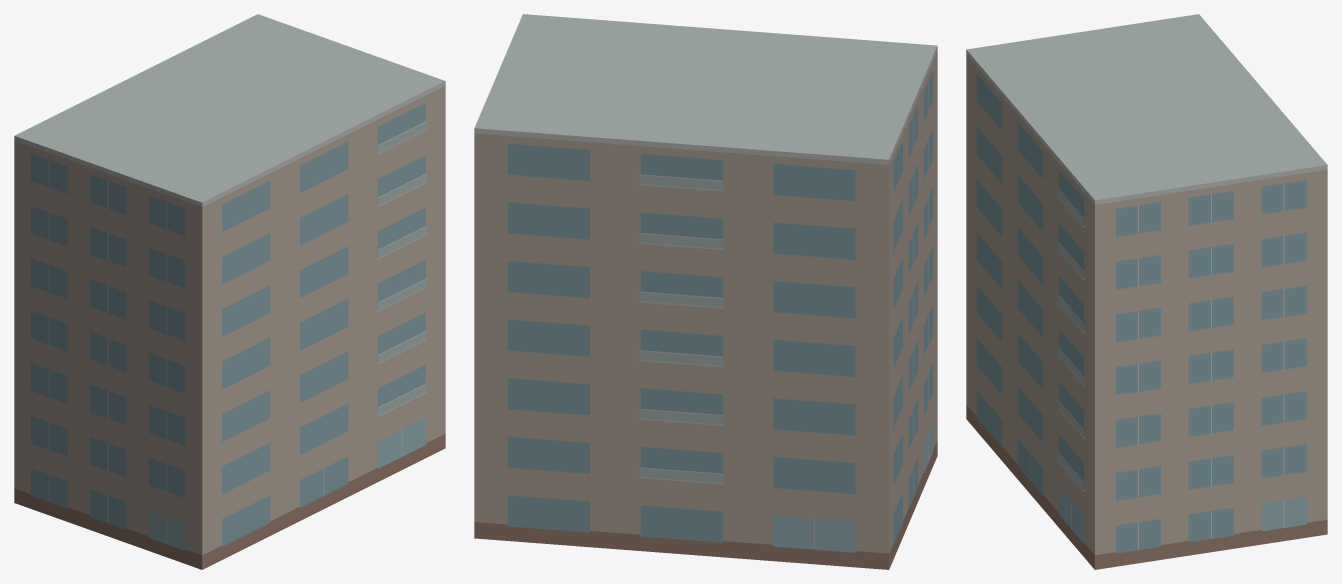
The model's file is survey-upis-32717008.glb.
3 views of the same model, side by side, from view 1: azimuth 30°, elevation 25°; view 2: azimuth 150°, elevation 25°; view 3: azimuth 270°, elevation 25° (orthographic). The views are drawn at different scales.
Parts seen in each view (by area): view 1: survey-upis-32717008.tmp; view 2: survey-upis-32717008.tmp; view 3: survey-upis-32717008.tmp.
Part boxes in pixels (box(x1,y1,x2,y2)): survey-upis-32717008.tmp: box(14, 14, 445, 569); survey-upis-32717008.tmp: box(474, 14, 937, 569); survey-upis-32717008.tmp: box(966, 14, 1327, 569).
Size of the model in its own units: 20.83 by 19.25 by 17.07.
